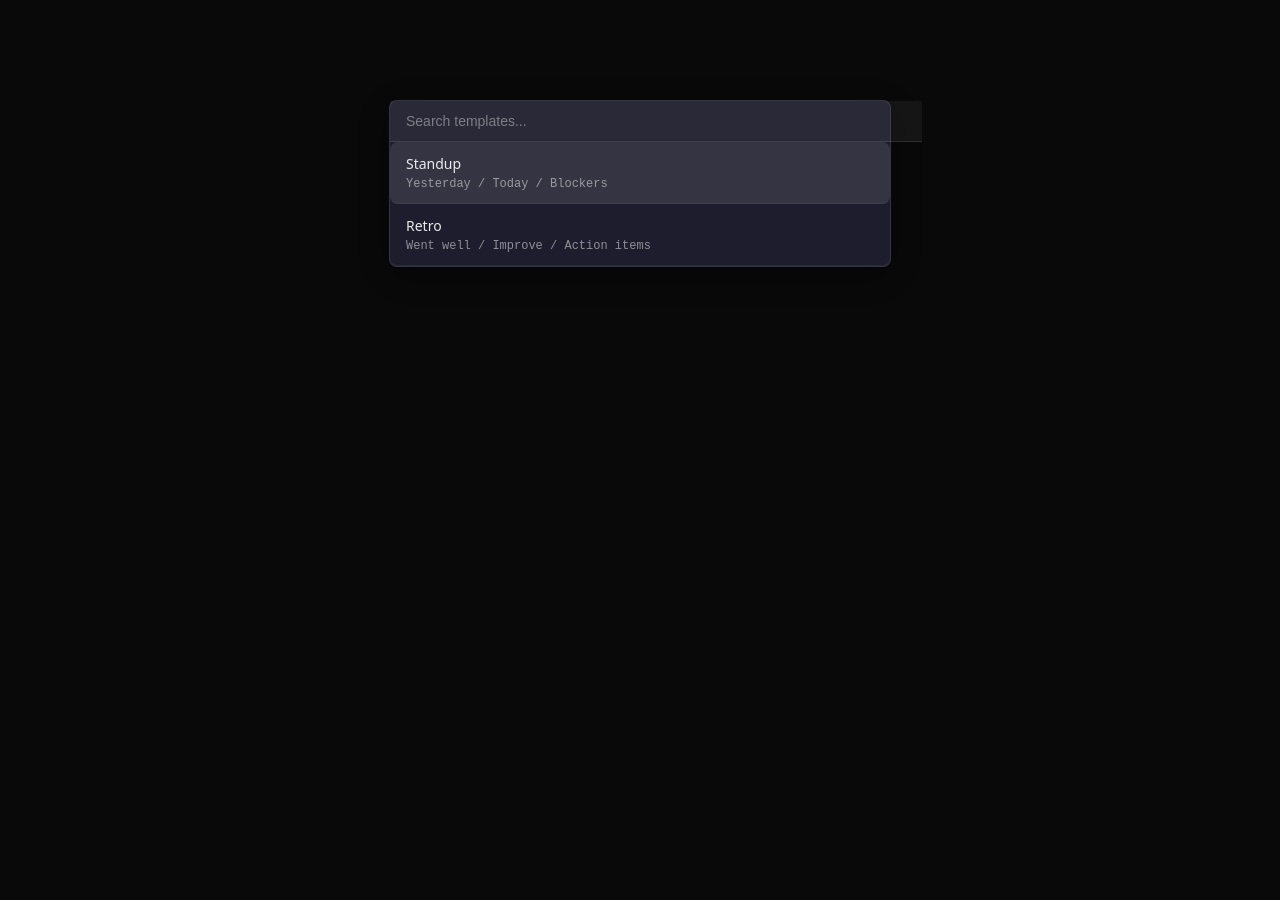
it: TemplateSelector › shows missing-template fallback when search has no matches
Type "xyz" into the field with placeholder "Search templates...". click: (656, 122)
box: top-left (390, 101), bottom-right (922, 142)
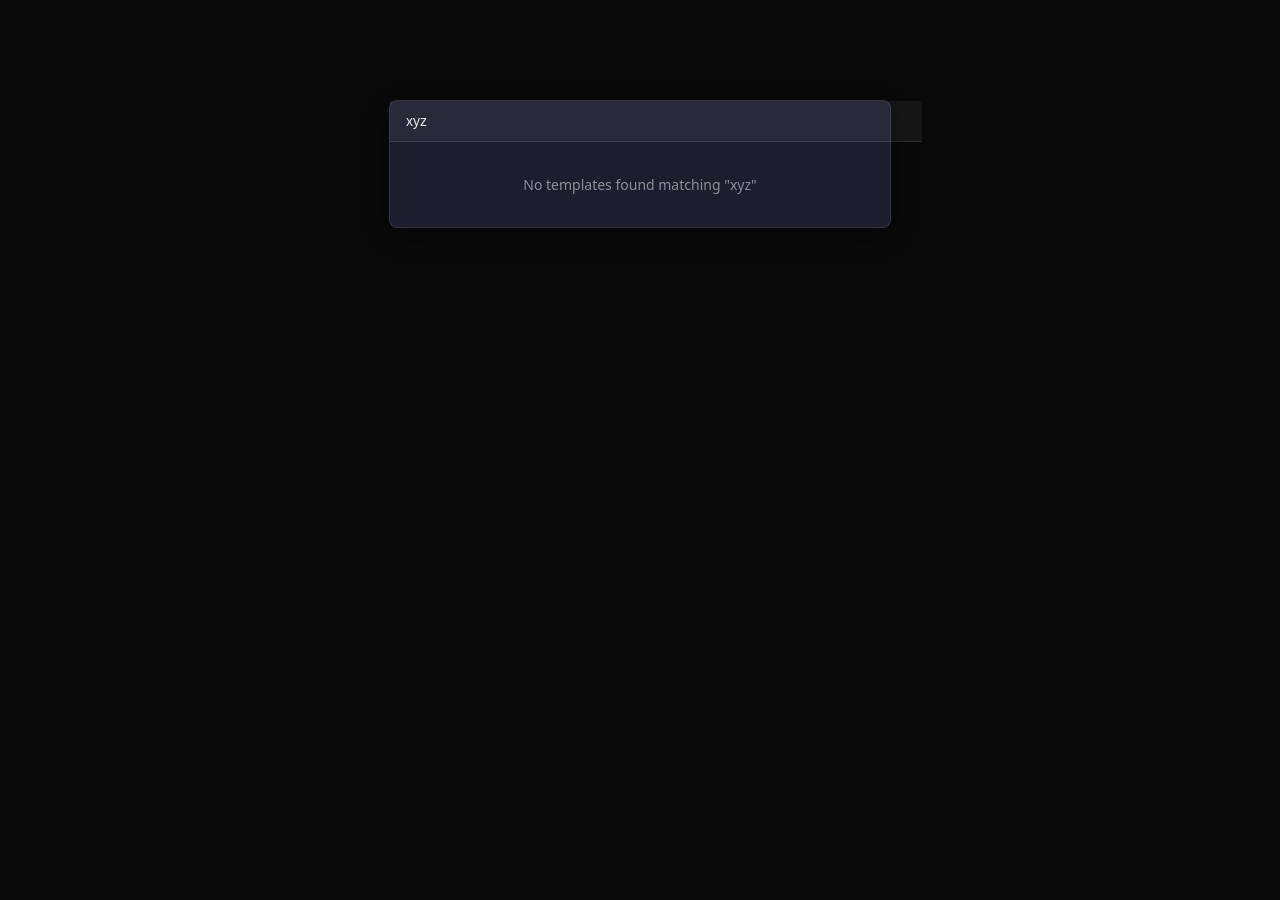
Now the text "No templates found matching \"xyz\"" is shown, box top-left (523, 175), bottom-right (757, 194)
